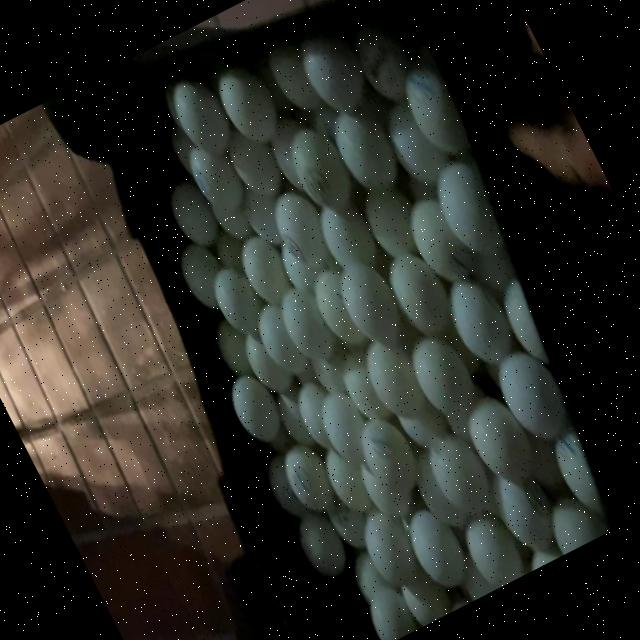ping-pong-ball: (422, 152, 513, 266), (486, 342, 578, 452), (276, 117, 366, 226), (436, 265, 524, 373), (377, 240, 462, 346), (415, 419, 500, 524), (400, 326, 487, 427), (456, 389, 540, 492), (483, 458, 567, 560), (207, 55, 292, 155), (329, 256, 412, 356), (355, 333, 436, 432), (324, 100, 406, 195), (396, 504, 477, 600), (259, 180, 339, 277), (398, 187, 476, 286), (348, 409, 428, 505), (158, 70, 238, 166), (350, 502, 430, 597), (306, 380, 380, 473), (218, 365, 294, 454), (271, 434, 345, 522), (198, 256, 272, 344), (180, 133, 253, 222), (454, 508, 528, 594), (271, 280, 343, 368), (169, 236, 240, 318), (228, 226, 299, 308), (247, 294, 313, 379), (288, 504, 356, 586), (160, 175, 227, 256), (356, 584, 417, 640)
